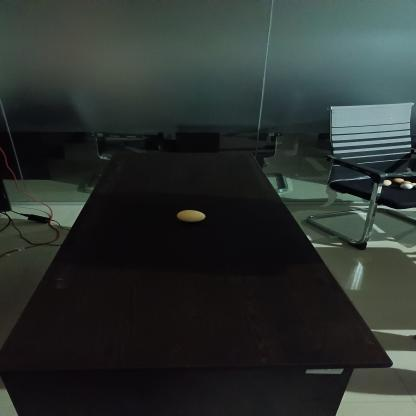egg: (174, 207, 208, 222)
